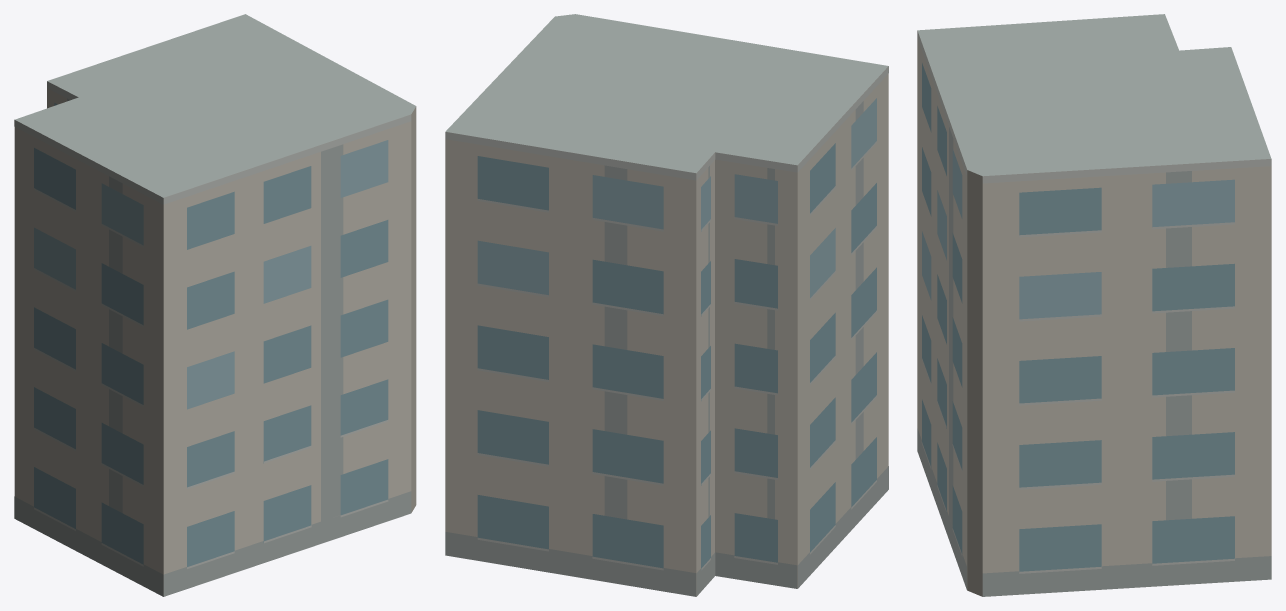
File: survey-upis-32577111.glb
3 renders of one model, left to right at view 1: azimuth 30°, elevation 25°; view 2: azimuth 150°, elevation 25°; view 3: azimuth 270°, elevation 25°, orthographic. The views are drawn at different scales.
Parts seen in each view (by area): view 1: survey-upis-32577111.tmp; view 2: survey-upis-32577111.tmp; view 3: survey-upis-32577111.tmp.
Part boxes in pixels (<box>): survey-upis-32577111.tmp: <box>14,14,416,596</box>; survey-upis-32577111.tmp: <box>445,14,888,596</box>; survey-upis-32577111.tmp: <box>917,14,1271,596</box>.
Size of the model in its own units: 11.67 by 14.1 by 10.77.
